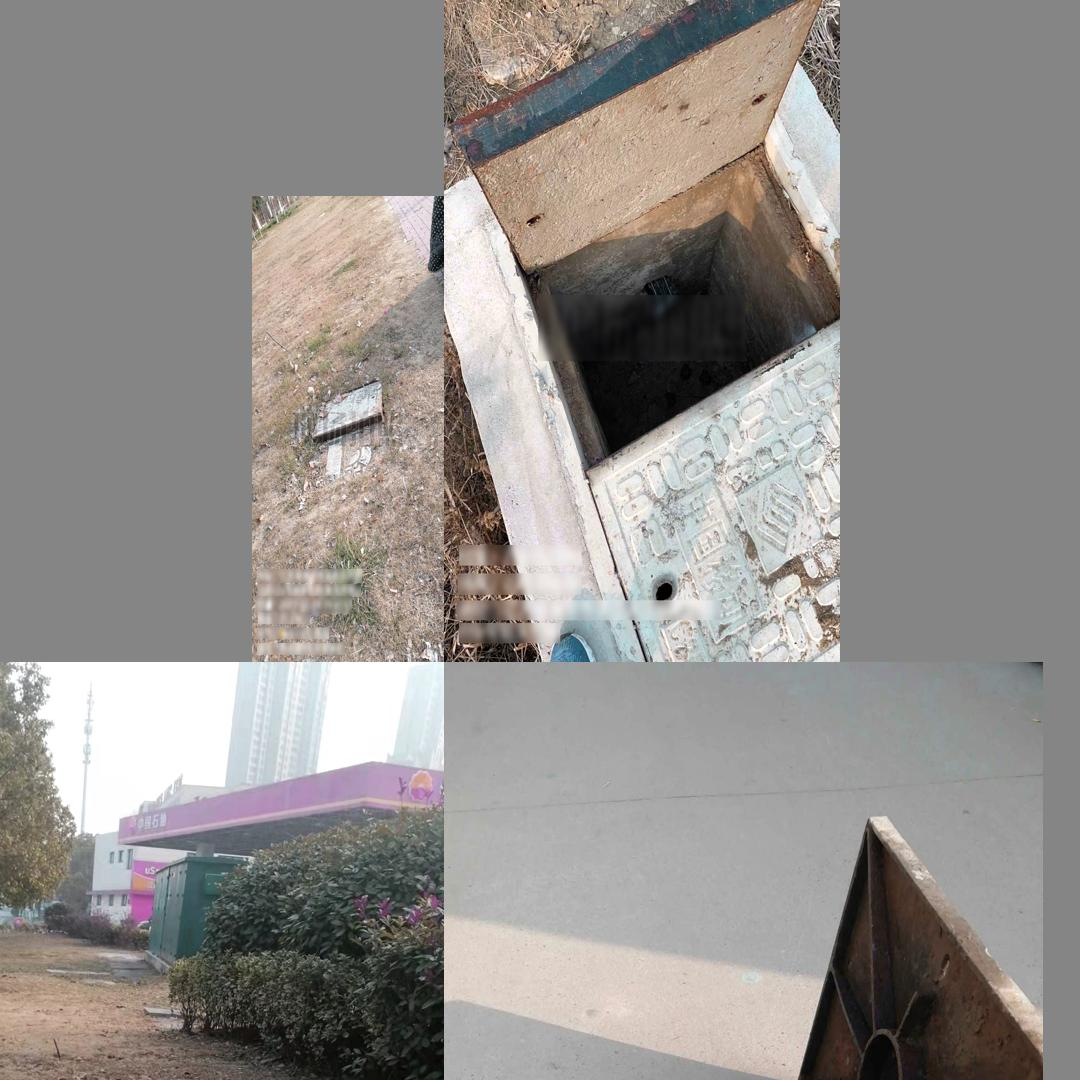uncovered: (448, 0, 840, 662), (549, 814, 1043, 1080), (307, 374, 397, 443)
